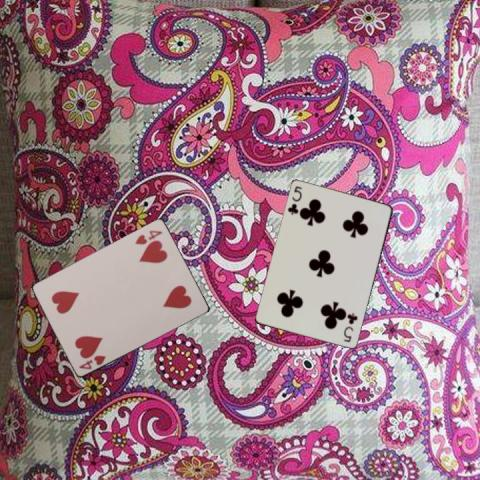4h: (132, 227, 164, 246), (76, 352, 107, 371)
5c: (341, 310, 359, 344), (285, 183, 303, 217)
